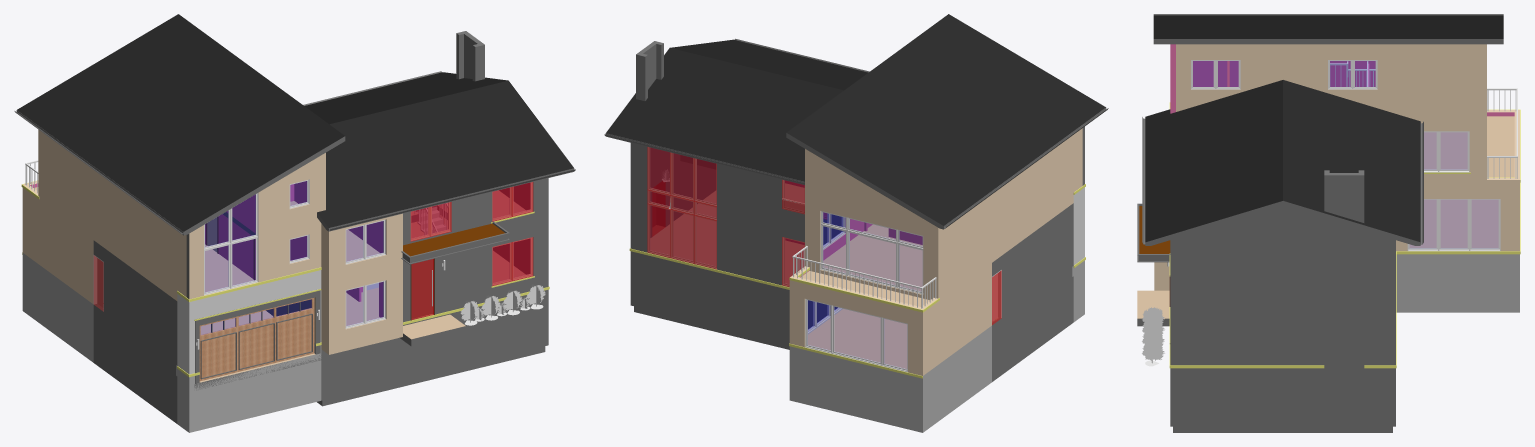
File: HouseView.glb
The picture shows the model from 3 angles, left to right: view 1: azimuth 30°, elevation 25°; view 2: azimuth 150°, elevation 25°; view 3: azimuth 270°, elevation 25°; orthographic projection. The views are drawn at different scales.
Visible parts, largest first — view 1: FootPrintRoof Roofs <6647879 Avam-Wood Rafter 8" - Asphalt S, FootPrintRoof Roofs <6647404 Avam-Wood Rafter 8" - Asphalt S, Wall Walls <6375494 04a-(Stucco-drywall) 8"<, Wall Walls <6633855 05e-(CONCRETE) 8''<, FamilyInstance Windows Avam-window with casing 6.5-operable- (×10), Wall Walls <6363809 04a-(Stucco-drywall) 8"<, Wall Walls <6743665 04a-(Stucco-drywall) 8"<, Wall Walls <6636318 05e-(CONCRETE) 8''<, Wall Walls <6375384 04a-(Stucco-drywall) 8"<, FamilyInstance Doors ARCICA-GARAGE-DOOR-CLASSIC <6377888 ARC, Wall Walls <6539280 04a-(Stucco-drywall) 8"<, Wall Walls <6742415 04a-(Stucco-drywall) 8"< (+31 smaller); view 2: FootPrintRoof Roofs <6647879 Avam-Wood Rafter 8" - Asphalt S, FootPrintRoof Roofs <6647404 Avam-Wood Rafter 8" - Asphalt S, FamilyInstance Windows Avam-window with casing 6.5-operable- (×7), Wall Walls <6853953 04a-(Stucco-drywall) 8"<, Wall Walls <6634647 05e-(CONCRETE) 8''<, Wall Walls <6634777 05e-(CONCRETE) 8''<, Wall Walls <6561223 04a-(Stucco-drywall) 8"<, Floor Floors <6637518 FLOOR 1' 0"-GENERIC<, Wall Walls <6743665 04a-(Stucco-drywall) 8"<, Wall Walls <6539280 04a-(Stucco-drywall) 8"<, Floor Floors <6557800 FLOOR 1' 0"-GENERIC<, Wall Walls <6742415 04a-(Stucco-drywall) 8"< (+24 smaller); view 3: FootPrintRoof Roofs <6647404 Avam-Wood Rafter 8" - Asphalt S, Wall Walls <6362994 04a-(Stucco-drywall) 8"<, Wall Walls <6633587 05e-(CONCRETE) 8''<, FootPrintRoof Roofs <6647879 Avam-Wood Rafter 8" - Asphalt S, Wall Walls <6883962 04a-(Stucco-drywall) 8"<, FamilyInstance Windows Avam-window with casing 6.5-operable- (×9), Wall Walls <6784281 04a-(Stucco-drywall) 8"<, Wall Walls <6752826 05e-(CONCRETE) 8''<, Wall Walls <6378658 04a-(Stucco-drywall) 8"<, Floor Floors <6637518 FLOOR 1' 0"-GENERIC<, Floor Floors <6557800 FLOOR 1' 0"-GENERIC<, Floor Floors <6768091 BASEMENT< (+18 smaller).
Part boxes in pixels (x1=…): FootPrintRoof Roofs <6647879 Avam-Wood Rafter 8" - Asphalt S: x1=17, y1=14, x2=345, y2=235; FootPrintRoof Roofs <6647404 Avam-Wood Rafter 8" - Asphalt S: x1=304, y1=72, x2=574, y2=231; Wall Walls <6375494 04a-(Stucco-drywall) 8"<: x1=186, y1=153, x2=325, y2=374; Wall Walls <6633855 05e-(CONCRETE) 8''<: x1=321, y1=291, x2=544, y2=400; FamilyInstance Windows Avam-window with casing 6.5-operable- (×10): x1=204, y1=179, x2=385, y2=328; Wall Walls <6363809 04a-(Stucco-drywall) 8"<: x1=403, y1=179, x2=544, y2=322; Wall Walls <6743665 04a-(Stucco-drywall) 8"<: x1=83, y1=163, x2=177, y2=300; Wall Walls <6636318 05e-(CONCRETE) 8''<: x1=186, y1=343, x2=321, y2=432; Wall Walls <6375384 04a-(Stucco-drywall) 8"<: x1=326, y1=213, x2=402, y2=354; FamilyInstance Doors ARCICA-GARAGE-DOOR-CLASSIC <6377888 ARC: x1=199, y1=298, x2=314, y2=381; Wall Walls <6539280 04a-(Stucco-drywall) 8"<: x1=38, y1=129, x2=84, y2=297; Wall Walls <6742415 04a-(Stucco-drywall) 8"<: x1=93, y1=240, x2=177, y2=365; FootPrintRoof Roofs <6647879 Avam-Wood Rafter 8" - Asphalt S: x1=786, y1=14, x2=1105, y2=229; FootPrintRoof Roofs <6647404 Avam-Wood Rafter 8" - Asphalt S: x1=605, y1=39, x2=867, y2=184; FamilyInstance Windows Avam-window with casing 6.5-operable- (×7): x1=805, y1=217, x2=923, y2=371; Wall Walls <6853953 04a-(Stucco-drywall) 8"<: x1=630, y1=143, x2=841, y2=285; Wall Walls <6634647 05e-(CONCRETE) 8''<: x1=635, y1=252, x2=837, y2=343; Wall Walls <6634777 05e-(CONCRETE) 8''<: x1=789, y1=346, x2=925, y2=432; Wall Walls <6561223 04a-(Stucco-drywall) 8"<: x1=805, y1=149, x2=933, y2=299; Floor Floors <6637518 FLOOR 1' 0"-GENERIC<: x1=650, y1=191, x2=997, y2=368; Wall Walls <6743665 04a-(Stucco-drywall) 8"<: x1=982, y1=135, x2=1073, y2=269; Wall Walls <6539280 04a-(Stucco-drywall) 8"<: x1=933, y1=202, x2=982, y2=363; Floor Floors <6557800 FLOOR 1' 0"-GENERIC<: x1=680, y1=155, x2=929, y2=306; Wall Walls <6742415 04a-(Stucco-drywall) 8"<: x1=992, y1=203, x2=1073, y2=317; FootPrintRoof Roofs <6647404 Avam-Wood Rafter 8" - Asphalt S: x1=1145, y1=80, x2=1420, y2=245; Wall Walls <6362994 04a-(Stucco-drywall) 8"<: x1=1170, y1=206, x2=1390, y2=365; Wall Walls <6633587 05e-(CONCRETE) 8''<: x1=1170, y1=368, x2=1395, y2=426; FootPrintRoof Roofs <6647879 Avam-Wood Rafter 8" - Asphalt S: x1=1153, y1=15, x2=1503, y2=44; Wall Walls <6883962 04a-(Stucco-drywall) 8"<: x1=1396, y1=44, x2=1484, y2=251; FamilyInstance Windows Avam-window with casing 6.5-operable- (×9): x1=1191, y1=60, x2=1500, y2=251; Wall Walls <6784281 04a-(Stucco-drywall) 8"<: x1=1176, y1=44, x2=1395, y2=113; Wall Walls <6752826 05e-(CONCRETE) 8''<: x1=1396, y1=254, x2=1514, y2=312; Wall Walls <6378658 04a-(Stucco-drywall) 8"<: x1=1329, y1=173, x2=1358, y2=381; Floor Floors <6637518 FLOOR 1' 0"-GENERIC<: x1=1409, y1=199, x2=1498, y2=247; Floor Floors <6557800 FLOOR 1' 0"-GENERIC<: x1=1424, y1=116, x2=1514, y2=177; Floor Floors <6768091 BASEMENT<: x1=1173, y1=426, x2=1392, y2=432.
Size of the model in its own units: 17.36 by 11.66 by 14.12.
32 materials, 2 textured.
